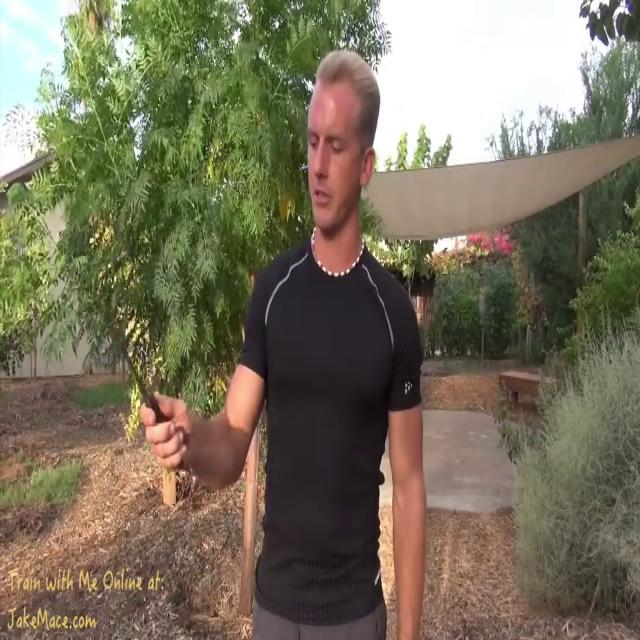knife: (99, 302, 150, 412)
